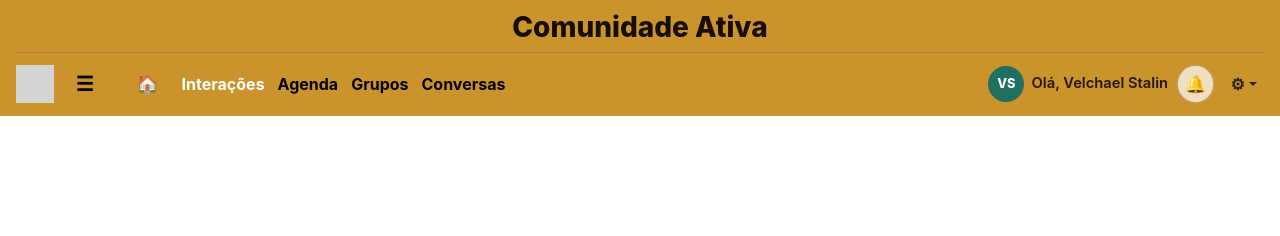
Test case: campana y menú de configuración permanecen para admin_total
The width and height of the screenshot is (1280, 236).
Expected: the button named "Abrir notificações" is shown, [1177,65,1214,103]
Click the button "⚙" at (1244, 84), box [1223,65,1264,103]
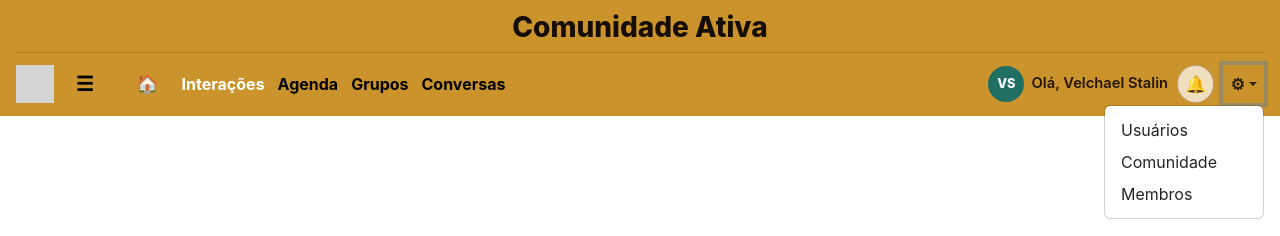
Result: the link "Usuários" is shown at [1121,120,1188,140]
Result: the link "Comunidade" is shown at [1121,152,1217,172]
Result: the link "Membros" is shown at [1121,184,1192,204]
